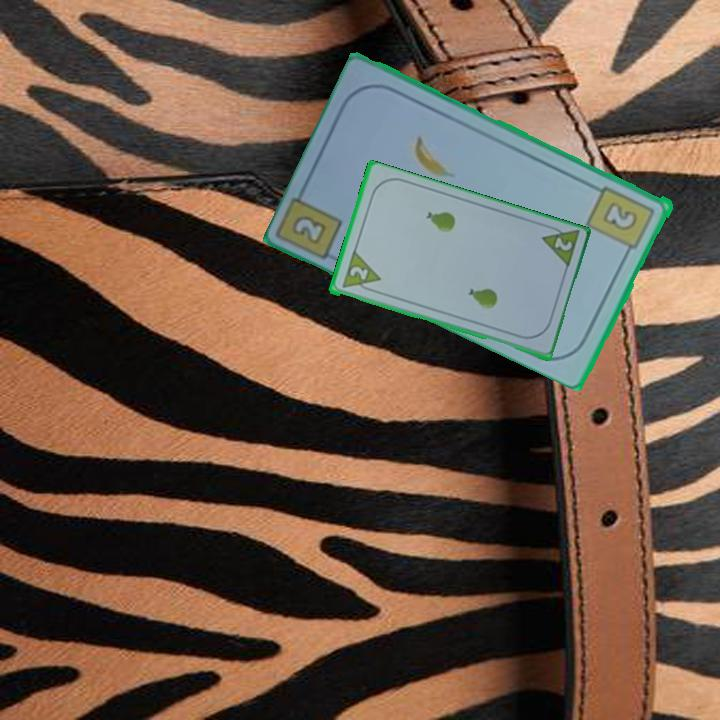2b: (584, 182, 658, 259), (289, 211, 330, 248)
2p: (346, 262, 371, 283), (550, 234, 575, 254)
